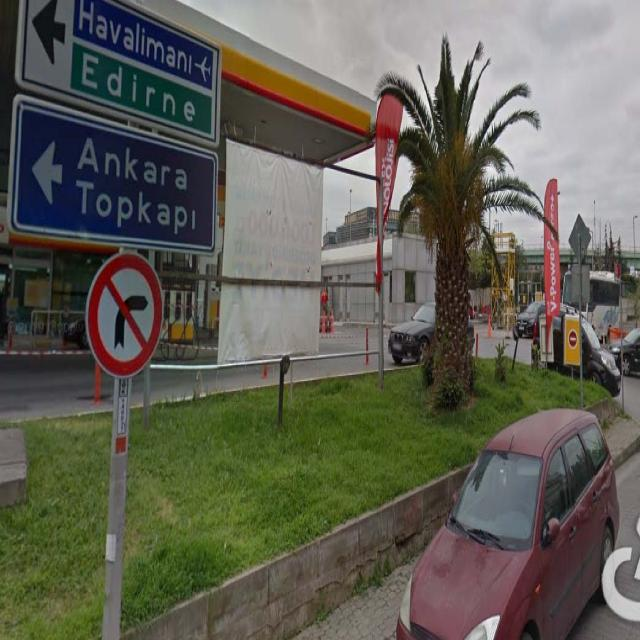sagadonulmez: (86, 252, 162, 378)
